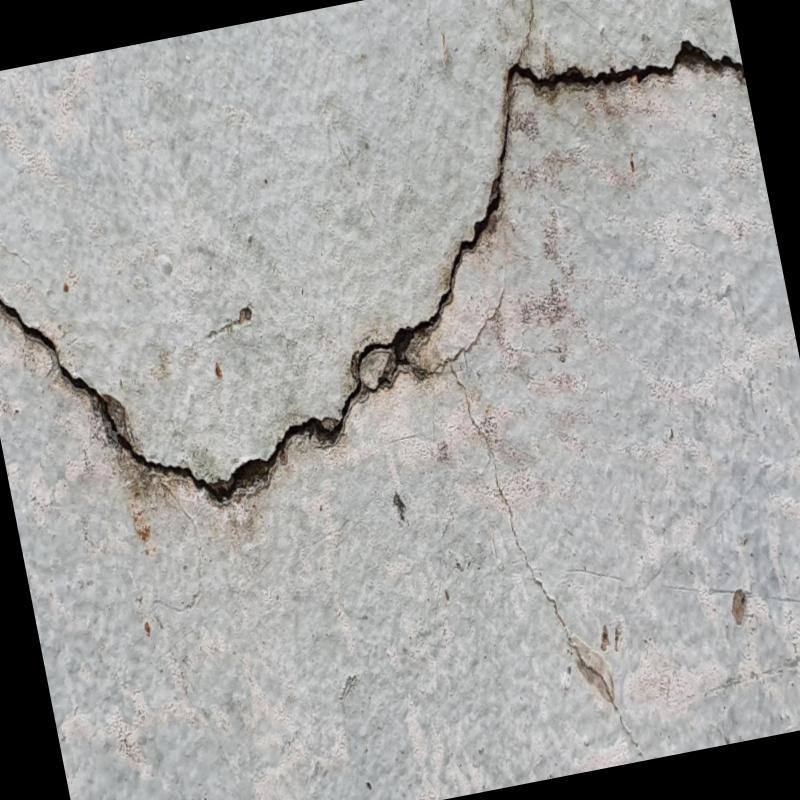pothole: (0, 37, 743, 501)
